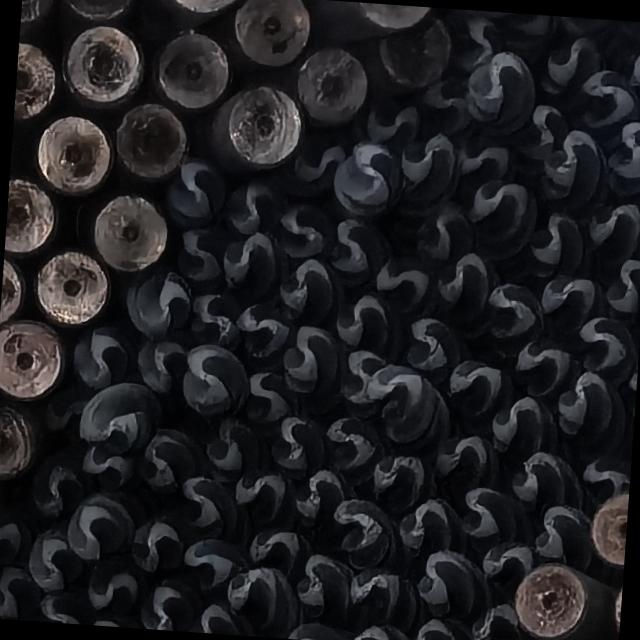tool: (17, 111, 114, 197), (74, 187, 171, 270), (62, 23, 146, 110), (150, 28, 234, 112), (30, 244, 111, 326), (112, 100, 188, 182), (507, 565, 589, 640), (225, 90, 302, 168), (372, 19, 454, 86), (226, 0, 309, 66), (0, 317, 64, 399), (298, 54, 372, 122), (4, 172, 56, 254), (14, 37, 61, 115), (0, 393, 35, 484), (338, 1, 433, 30), (590, 496, 628, 567), (38, 0, 133, 28), (0, 253, 27, 326), (161, 0, 250, 15)
tool_b: (362, 361, 452, 453), (552, 366, 630, 454), (463, 47, 537, 134), (116, 260, 194, 338), (492, 446, 585, 511), (540, 128, 612, 211), (278, 322, 346, 408), (224, 564, 301, 639), (417, 548, 494, 620), (218, 229, 288, 307), (510, 328, 586, 398), (204, 411, 277, 483), (180, 342, 248, 418), (163, 154, 230, 230), (518, 208, 589, 279), (72, 318, 141, 390), (396, 130, 464, 203), (63, 492, 133, 562), (135, 428, 205, 498), (326, 496, 394, 568), (354, 453, 434, 514), (538, 274, 612, 339), (372, 250, 442, 318), (536, 26, 604, 96), (395, 493, 469, 557), (458, 484, 534, 546), (490, 395, 561, 458), (28, 444, 88, 518), (436, 251, 502, 318), (411, 196, 476, 262), (296, 550, 356, 620), (393, 314, 465, 372), (569, 67, 635, 130), (332, 292, 400, 353), (446, 358, 515, 418), (322, 413, 382, 482), (83, 548, 147, 612), (292, 468, 356, 532), (24, 524, 86, 590), (432, 431, 499, 492), (268, 412, 329, 478), (483, 280, 545, 344), (180, 535, 246, 595), (532, 503, 594, 566), (217, 176, 281, 237), (276, 257, 336, 322), (337, 144, 396, 210), (578, 313, 640, 375), (231, 471, 297, 528), (178, 474, 238, 536), (134, 328, 191, 392), (74, 394, 144, 446), (139, 576, 203, 632), (465, 174, 530, 229), (334, 343, 390, 406), (318, 220, 385, 272), (232, 306, 296, 360), (587, 199, 640, 263), (247, 518, 308, 573), (276, 198, 334, 255), (362, 89, 422, 144), (245, 367, 302, 424), (168, 228, 224, 286), (188, 288, 242, 348), (132, 518, 188, 574), (339, 564, 404, 612), (482, 540, 538, 592), (81, 444, 146, 488), (290, 140, 342, 194), (474, 11, 559, 44), (582, 439, 632, 495), (604, 119, 640, 195), (455, 132, 512, 180), (598, 257, 640, 316), (466, 595, 519, 640), (0, 563, 41, 621), (192, 601, 259, 636), (38, 585, 96, 625), (0, 497, 32, 566), (529, 99, 571, 145), (281, 620, 363, 640), (410, 616, 464, 640), (346, 623, 411, 640), (630, 37, 640, 94)
